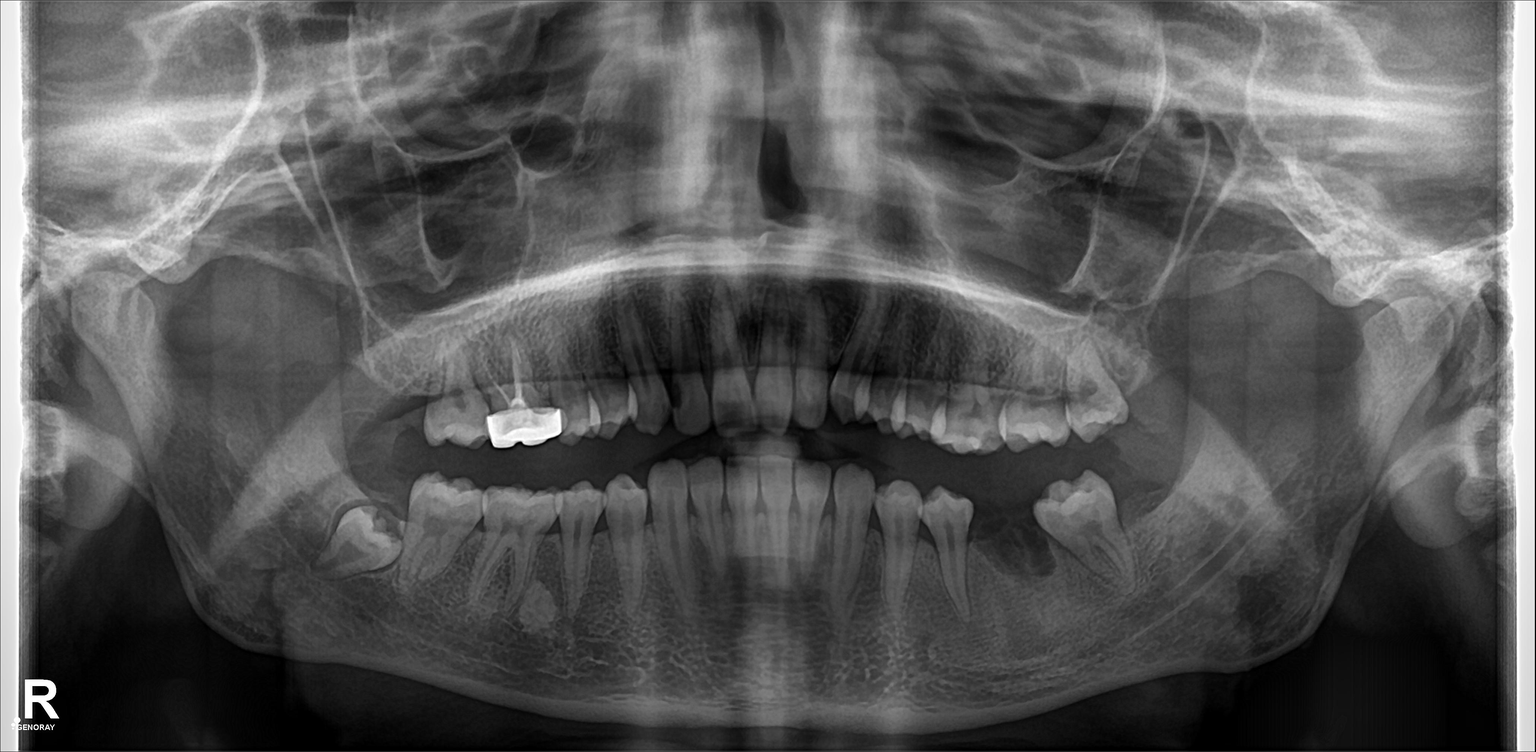Dental Caries: (940, 395, 1001, 441), (715, 402, 748, 435)
Endodontically Treated Tooth: (479, 341, 568, 439)
Impacted Third Molar: (320, 508, 405, 573)
Missing Tooth: (978, 499, 1031, 591), (382, 352, 429, 450), (1132, 463, 1184, 545), (1108, 356, 1158, 429), (350, 352, 384, 450)
Periapical Lesion: (514, 530, 572, 636)
